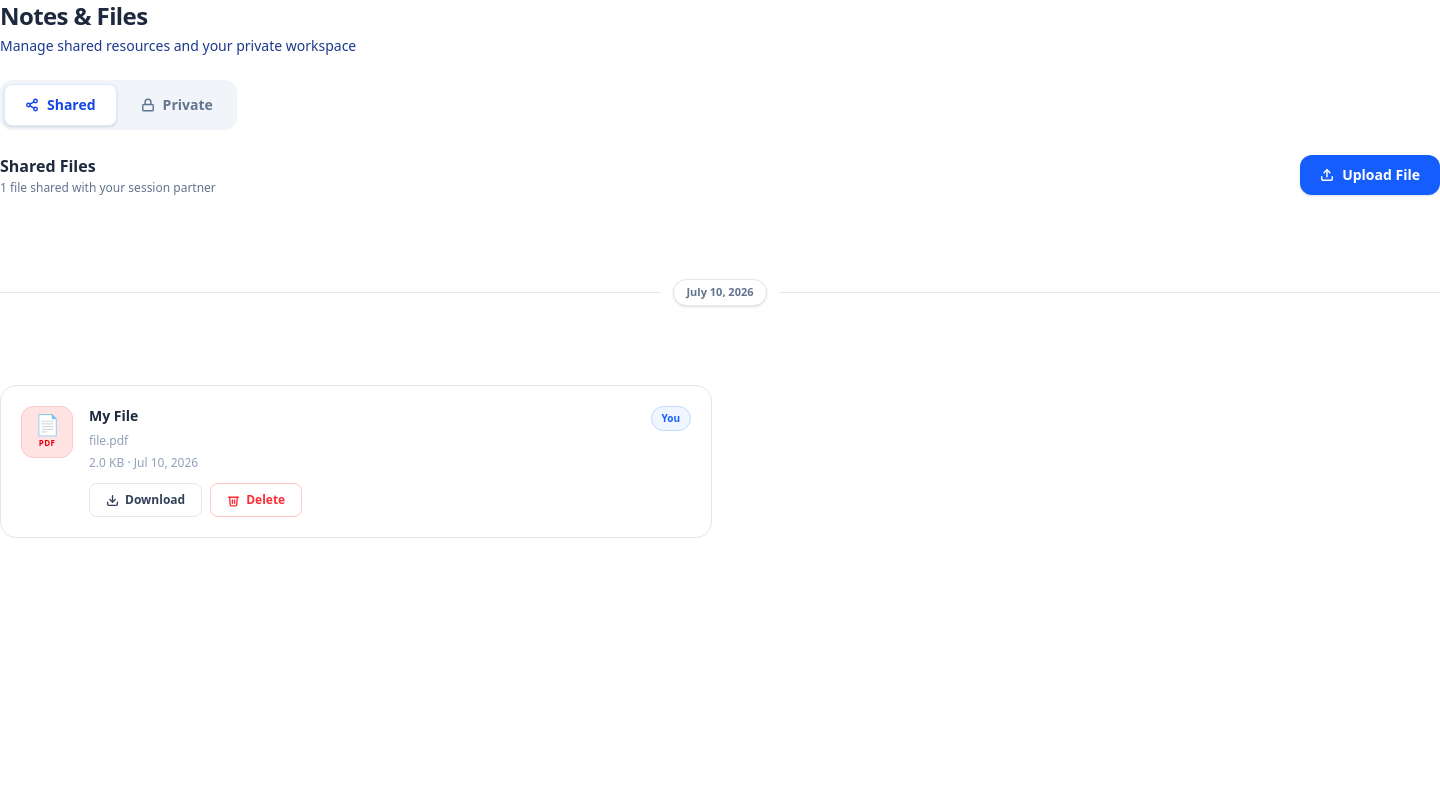
Test case: SharedNotesTab › closes the upload modal when Cancel is clicked
Click the button "Upload File": [1370, 175] box [1300, 155, 1439, 195]
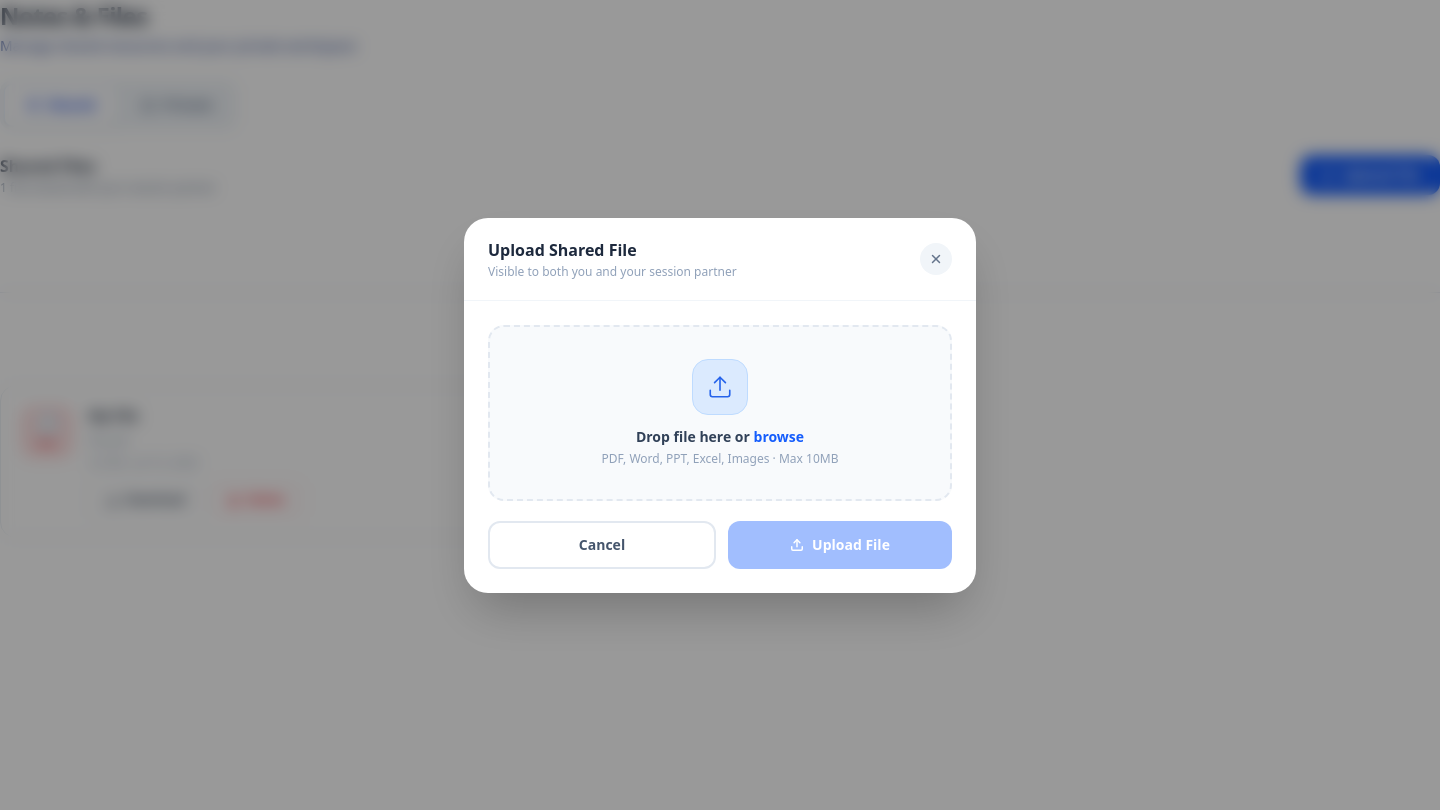
Click the button "Cancel": [602, 544] box [488, 520, 716, 568]
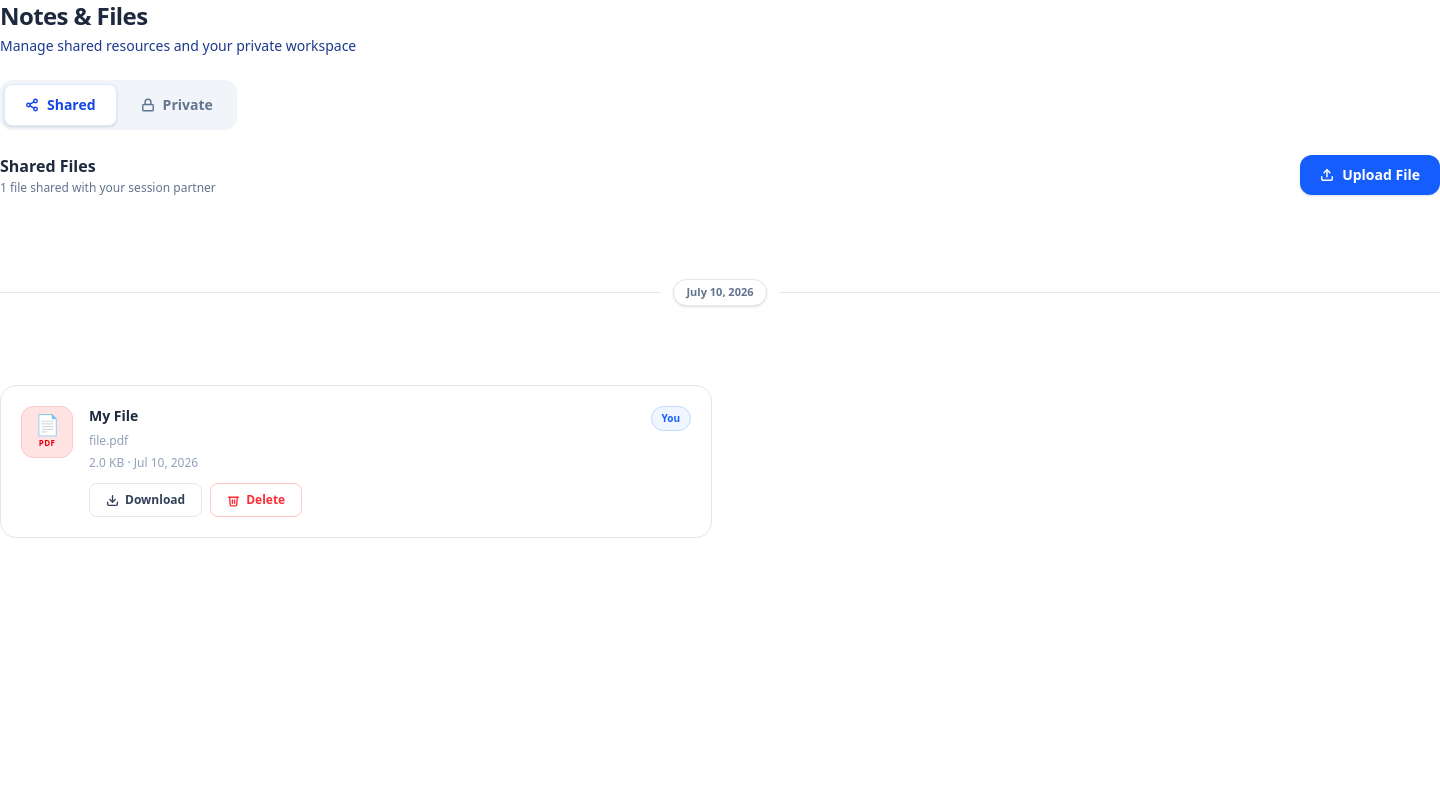
expect the heading "Upload Shared File" is gone: met
